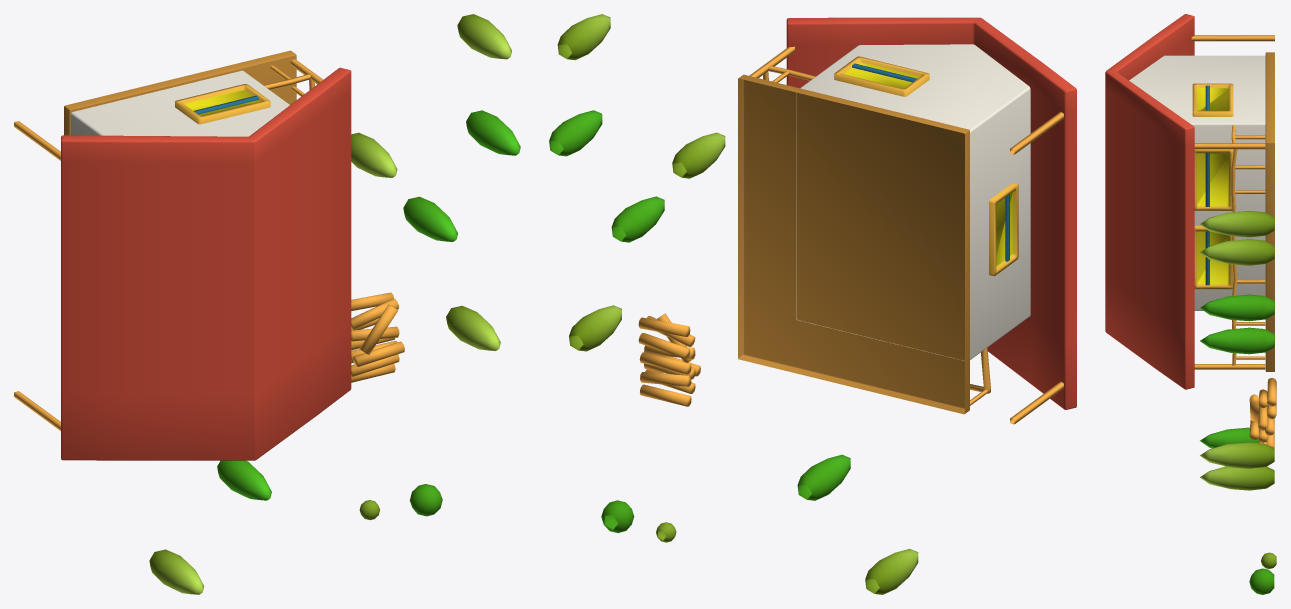
The model's file is Simple_House_02_01.fbx.
The picture shows the model from 3 angles, left to right: view 1: azimuth 30°, elevation 25°; view 2: azimuth 150°, elevation 25°; view 3: azimuth 270°, elevation 25°; orthographic projection. The views are drawn at different scales.
Visible parts, largest first — view 1: Simple_House_02_01; view 2: Simple_House_02_01; view 3: Simple_House_02_01.
Part boxes in pixels (left/top/right/bottom): Simple_House_02_01: left=14, top=14, right=520, bottom=594; Simple_House_02_01: left=549, top=14, right=1076, bottom=594; Simple_House_02_01: left=1105, top=14, right=1276, bottom=594.
Bounding box in the file's own units: 183 × 186 × 69.37.
